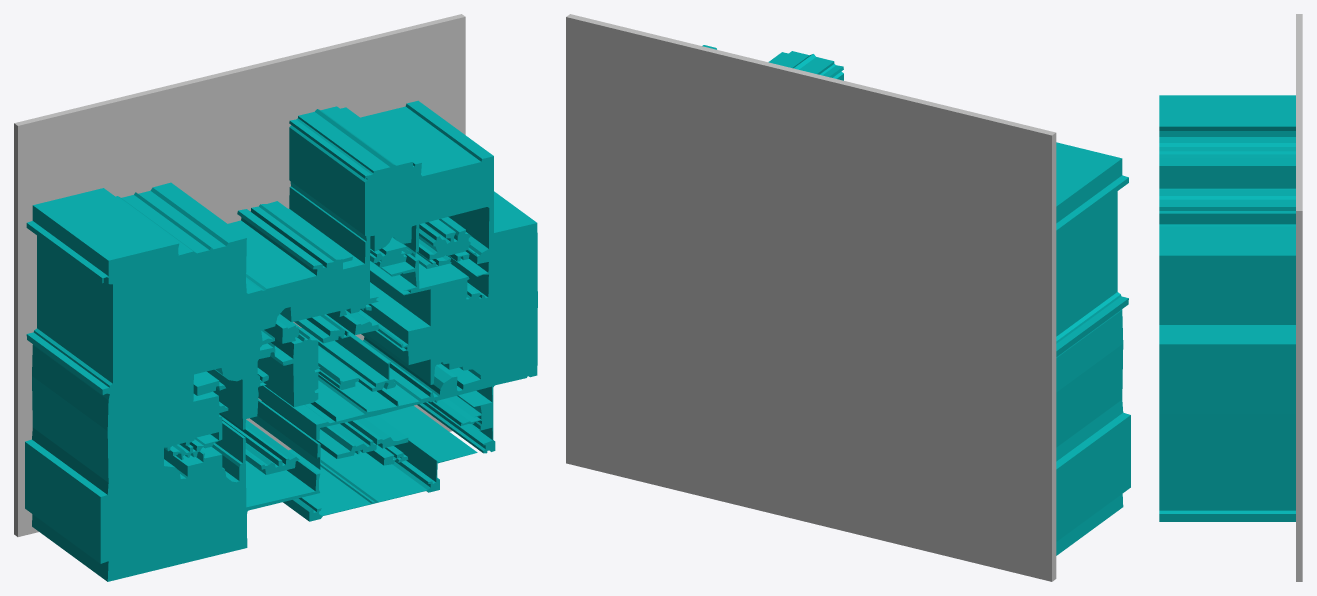
3 views of the same model, side by side, from view 1: azimuth 30°, elevation 25°; view 2: azimuth 150°, elevation 25°; view 3: azimuth 270°, elevation 25° (orthographic). The views are drawn at different scales.
Visible parts, largest first — view 1: world; view 2: world; view 3: world.
Boxes of the visible parts, bbox=[...] form: world: bbox=[14, 14, 537, 581]; world: bbox=[566, 14, 1130, 581]; world: bbox=[1159, 14, 1302, 581].
Bounding box in the file's own units: 10.23 × 8.98 × 3.15.
